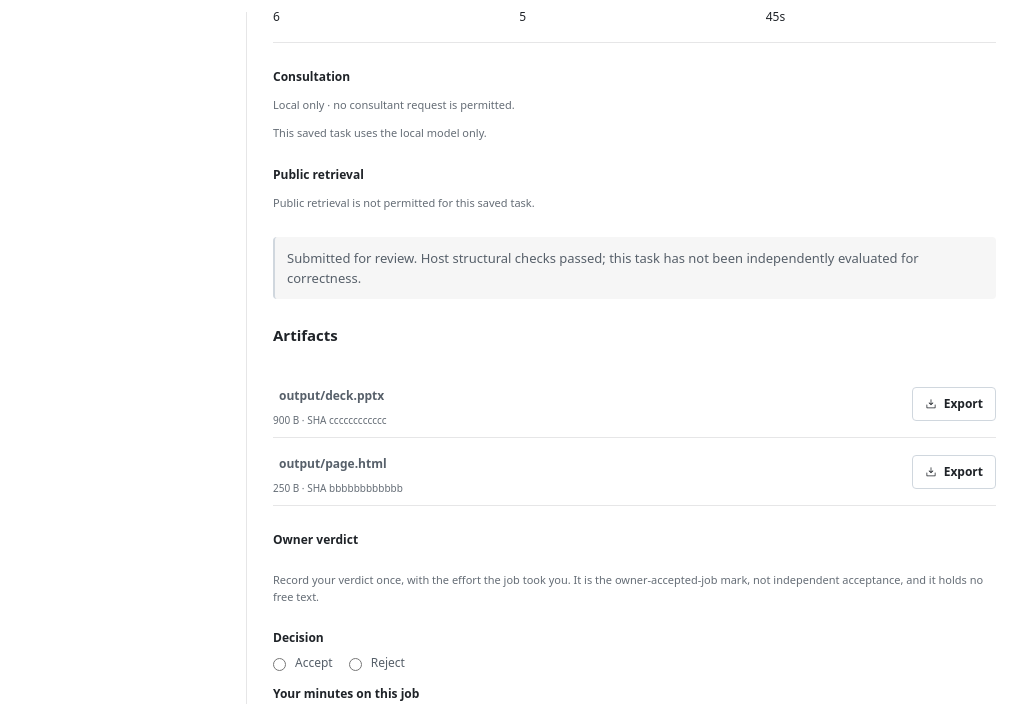
Test case: general task workspace › treats HTML as literal text and binary files as metadata with native export only
The image size is (1024, 704).
(page scrolled)
Click the button with aria-label "Preview output/deck.pptx".
click(332, 396)  # box [273,379,390,413]
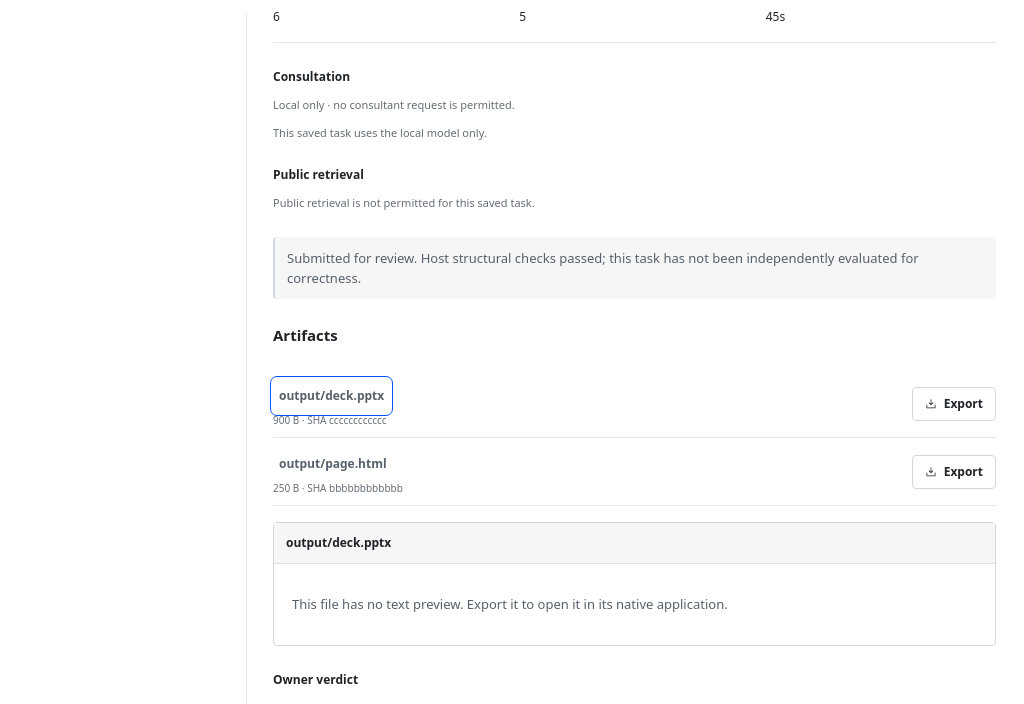
expect the text "no text preview" is shown: met, box [292,595,728,613]
Click the button with aria-label "Preview output/page.html".
click(333, 464)  # box [273,447,393,481]
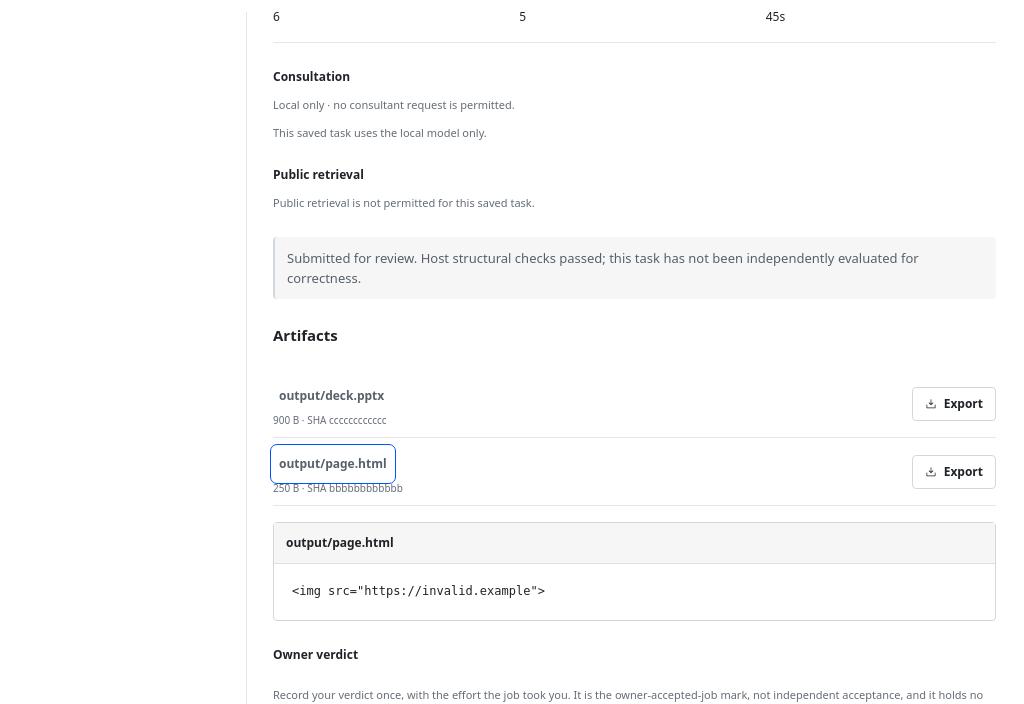
expect the text "<img src=\"https://invalid.example\">" is shown: met, box [292,584,545,598]
